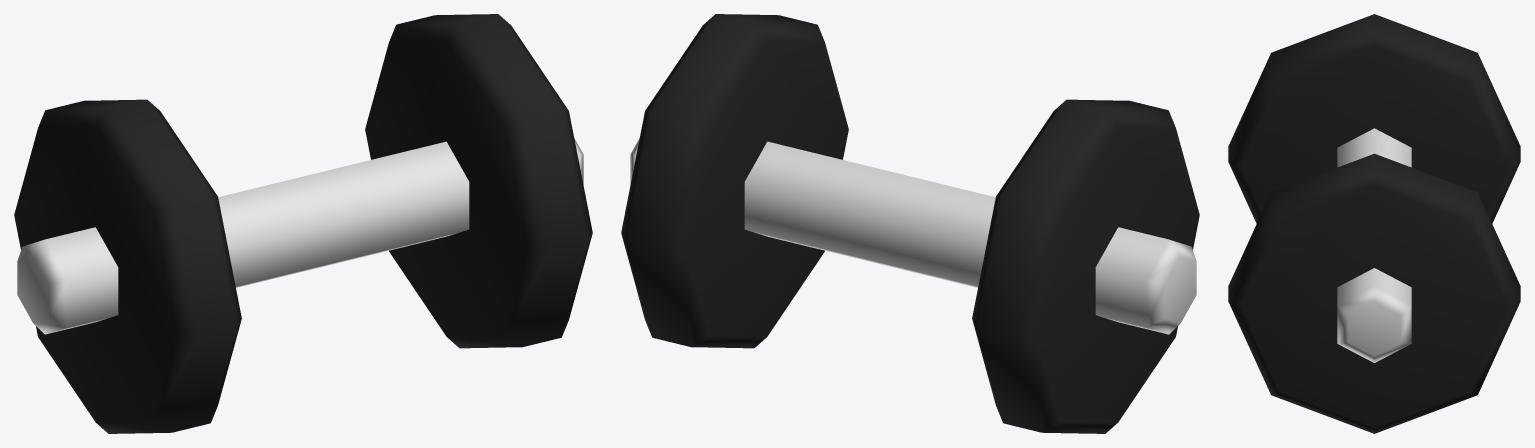
Rendered from training_011.fbx.
3 renders of one model, left to right at view 1: azimuth 30°, elevation 25°; view 2: azimuth 150°, elevation 25°; view 3: azimuth 270°, elevation 25°, orthographic. The views are drawn at different scales.
Parts seen in each view (by area): view 1: training_011; view 2: training_011; view 3: training_011.
Boxes of the visible parts, bbox=[...] form: training_011: bbox=[14, 14, 592, 433]; training_011: bbox=[621, 14, 1199, 433]; training_011: bbox=[1228, 14, 1520, 433].
Size of the model in its own units: 44.63 by 25.92 by 25.92.
